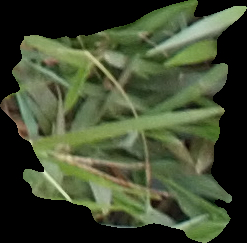grass: (1, 1, 245, 241)
